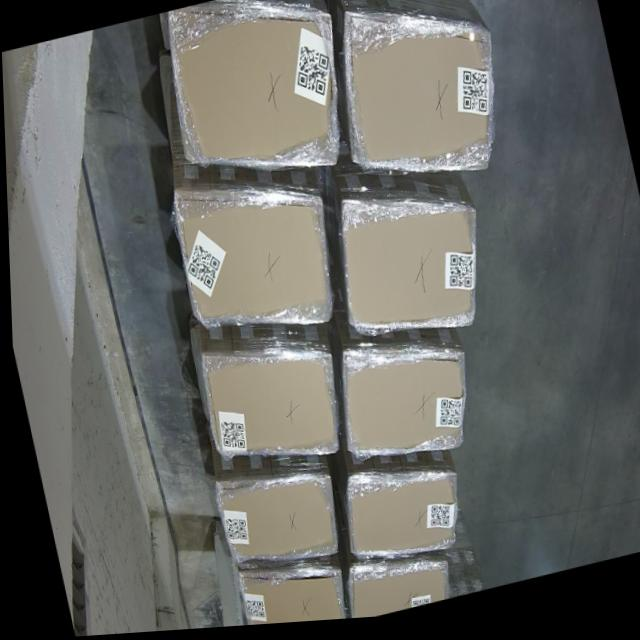pallet: (169, 13, 336, 168), (346, 18, 492, 172), (172, 199, 331, 327), (340, 207, 478, 329), (196, 350, 335, 458), (340, 360, 460, 457), (210, 479, 334, 562), (341, 478, 452, 559), (232, 567, 338, 628), (344, 567, 444, 623)
